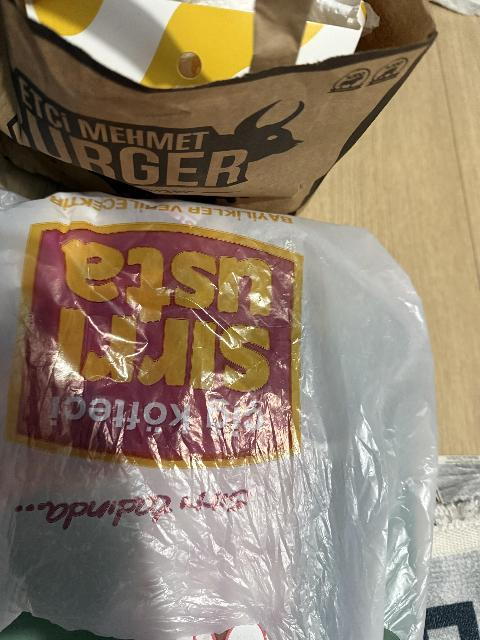Kagit: (0, 0, 434, 184)
Plastik: (0, 207, 445, 640)
